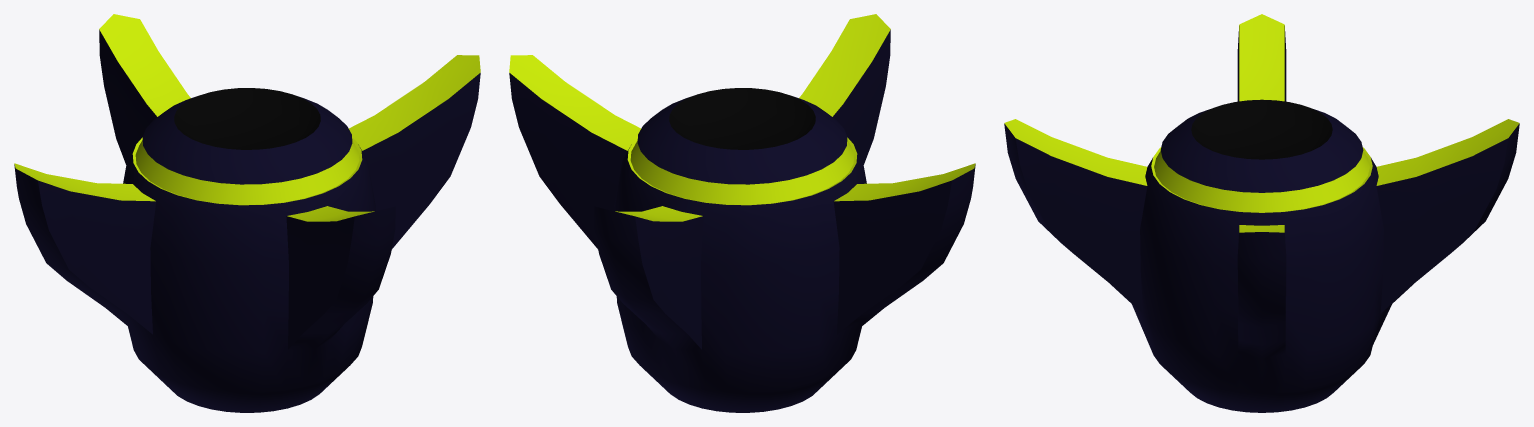
The model's file is spacebosscenter.fbx.
The picture shows the model from 3 angles, left to right: view 1: azimuth 30°, elevation 25°; view 2: azimuth 150°, elevation 25°; view 3: azimuth 270°, elevation 25°; orthographic projection. The views are drawn at different scales.
Parts seen in each view (by area): view 1: Cylinder.003; view 2: Cylinder.003; view 3: Cylinder.003.
Boxes of the visible parts, x1,y1,x2,y2 form: Cylinder.003: [14, 14, 480, 412]; Cylinder.003: [509, 14, 975, 412]; Cylinder.003: [1004, 14, 1519, 412].
Bounding box in the file's own units: 550 × 303 × 550.
